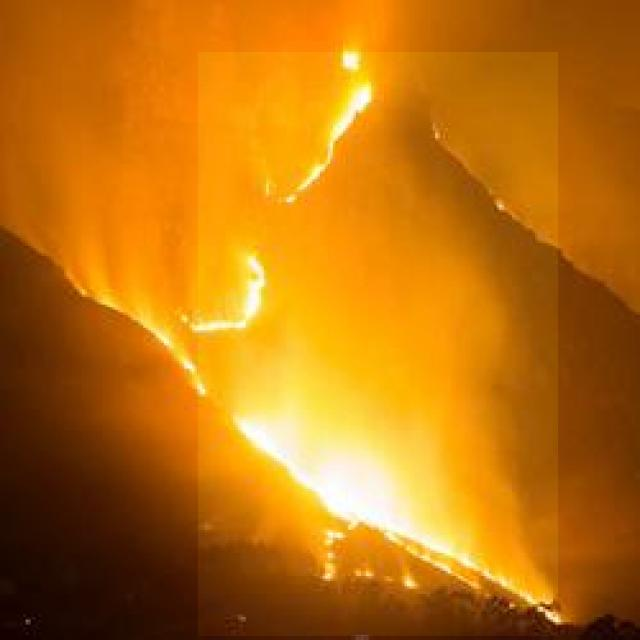Fire: (198, 53, 558, 636)
